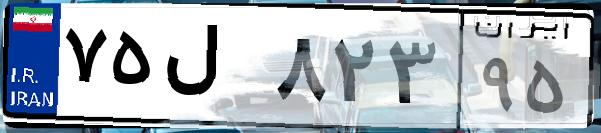2: (330, 28, 385, 110)
3: (385, 28, 445, 110)
5: (525, 38, 570, 115), (110, 28, 158, 98)
7: (57, 26, 110, 100)
8: (270, 28, 330, 110)
9: (475, 38, 525, 113)
ل: (158, 20, 270, 120)
